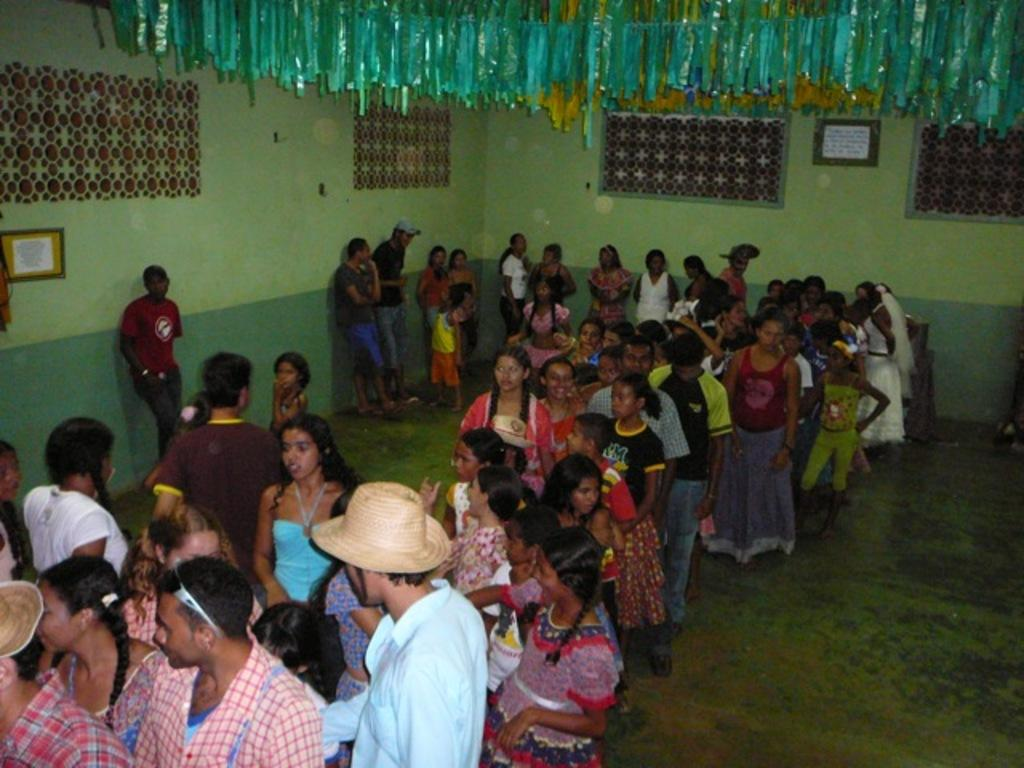Hat: (310, 480, 449, 574), (0, 581, 44, 659), (396, 222, 420, 233)
